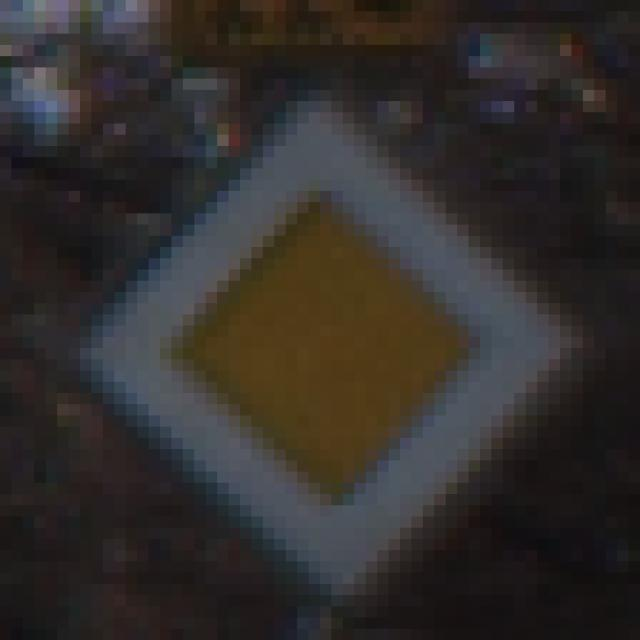Main Road: (58, 68, 584, 585)
